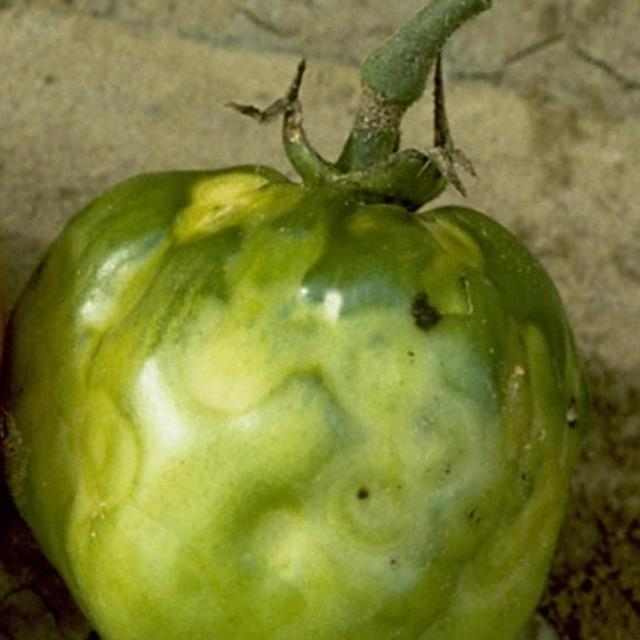Spotted wilt Virus Fruit: (166, 222, 524, 632)
